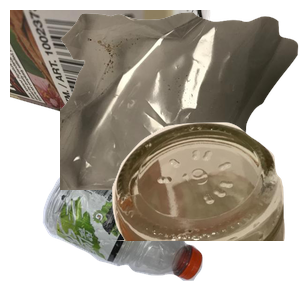cardboard: (10, 10, 213, 146)
glass: (89, 120, 300, 300)
plastic: (40, 165, 235, 300)
trash: (60, 10, 300, 190)
